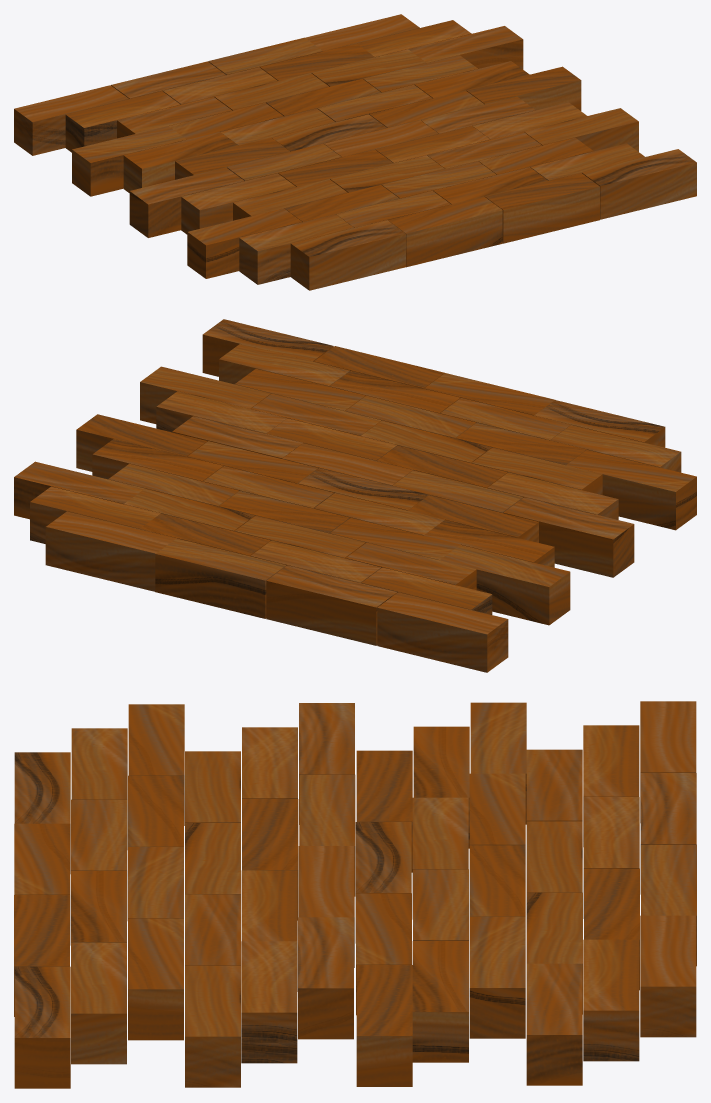
Rendered from DiagonalContinuousSide1.glb.
The picture shows the model from 3 angles, top to bottom: view 1: azimuth 30°, elevation 25°; view 2: azimuth 150°, elevation 25°; view 3: azimuth 270°, elevation 25°; orthographic projection. The views are drawn at different scales.
Visible parts, largest first — view 1: DiagonalContinuousSide1; view 2: DiagonalContinuousSide1; view 3: DiagonalContinuousSide1.
Part boxes in pixels (<box>): DiagonalContinuousSide1: <box>14,14,696,290</box>; DiagonalContinuousSide1: <box>14,319,696,672</box>; DiagonalContinuousSide1: <box>14,701,696,1088</box>.
Size of the model in its own units: 5.68 by 0.4 by 4.87.
1 material, 1 textured.
